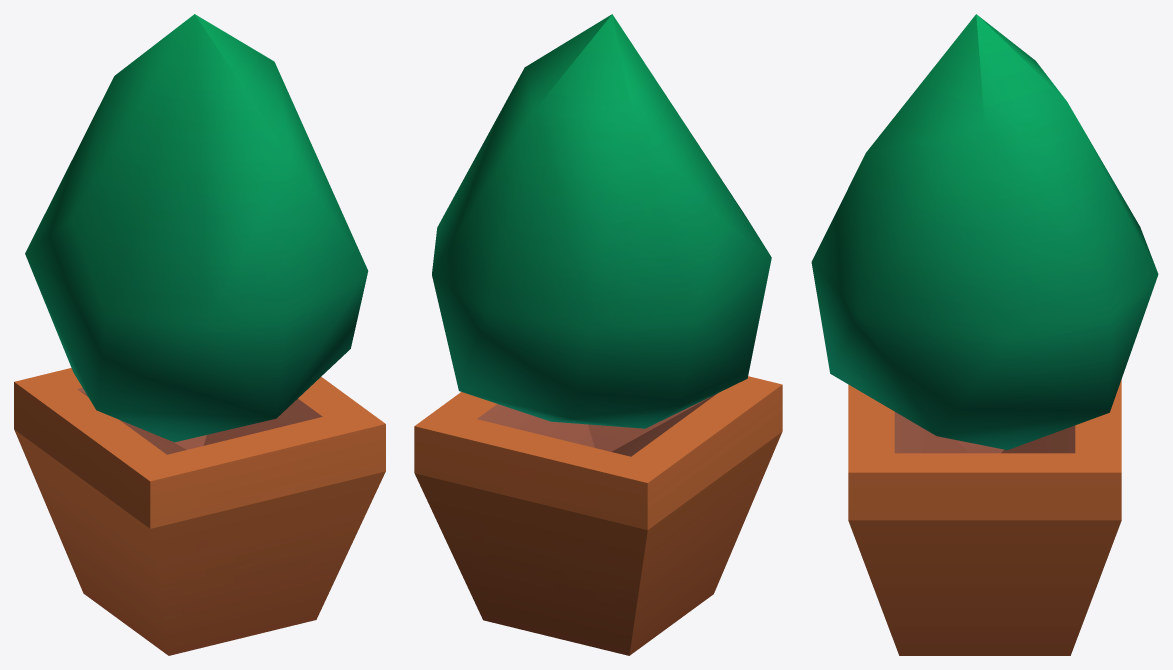
File: Bush-transformed.glb
The picture shows the model from 3 angles, left to right: view 1: azimuth 30°, elevation 25°; view 2: azimuth 150°, elevation 25°; view 3: azimuth 270°, elevation 25°; orthographic projection.
Visible parts, largest first — view 1: bush; view 2: bush; view 3: bush.
Boxes of the visible parts, left/top/right/bottom form: bush: left=14, top=14, right=385, bottom=655; bush: left=414, top=14, right=782, bottom=655; bush: left=811, top=14, right=1158, bottom=655.
Bounding box in the file's own units: 0.1894 × 0.3805 × 0.1991.
Materials: 1 (1 with a texture image).
